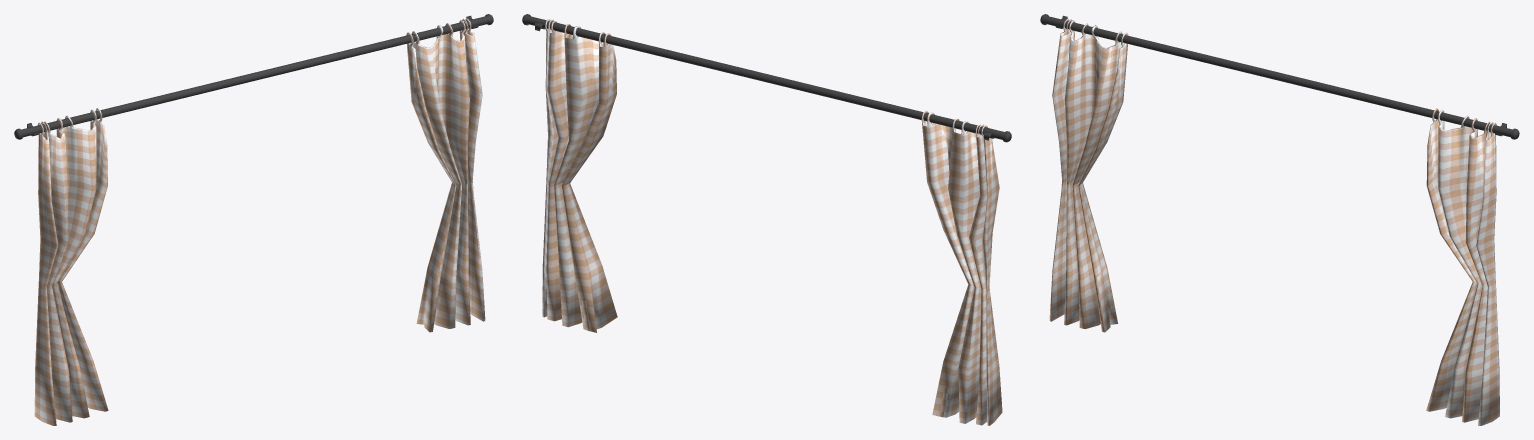
The model's file is curtains.glb.
3 renders of one model, left to right at view 1: azimuth 30°, elevation 25°; view 2: azimuth 150°, elevation 25°; view 3: azimuth 330°, elevation 25°, orthographic. The views are drawn at different scales.
Visible parts, largest first — view 1: Curtains, Curtain rod; view 2: Curtains, Curtain rod; view 3: Curtains, Curtain rod.
Part boxes in pixels (x1=…): Curtains: x1=34, y1=18, x2=485, y2=425; Curtain rod: x1=14, y1=14, x2=493, y2=139; Curtains: x1=542, y1=19, x2=1002, y2=425; Curtain rod: x1=522, y1=14, x2=1011, y2=142; Curtains: x1=1049, y1=18, x2=1499, y2=425; Curtain rod: x1=1040, y1=14, x2=1519, y2=139.
Size of the model in its own units: 8.35 by 4.95 by 0.6404.
Materials: 2 (1 with a texture image).
